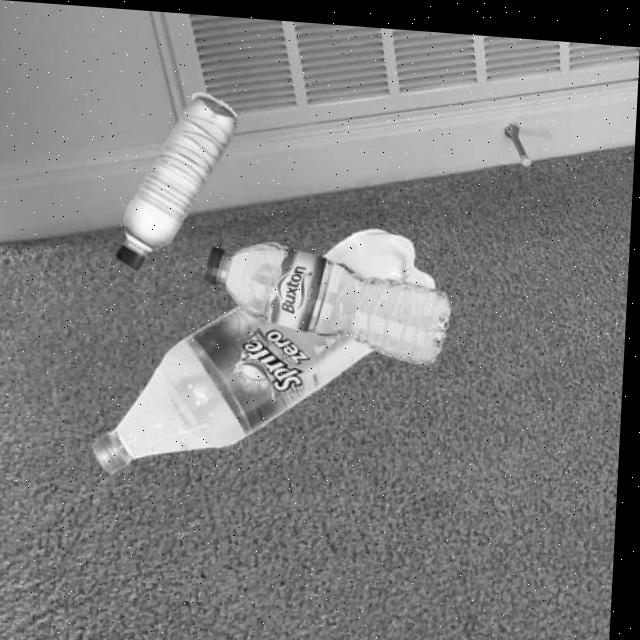bottle: (94, 204, 457, 492), (200, 213, 457, 361), (115, 82, 241, 274)
